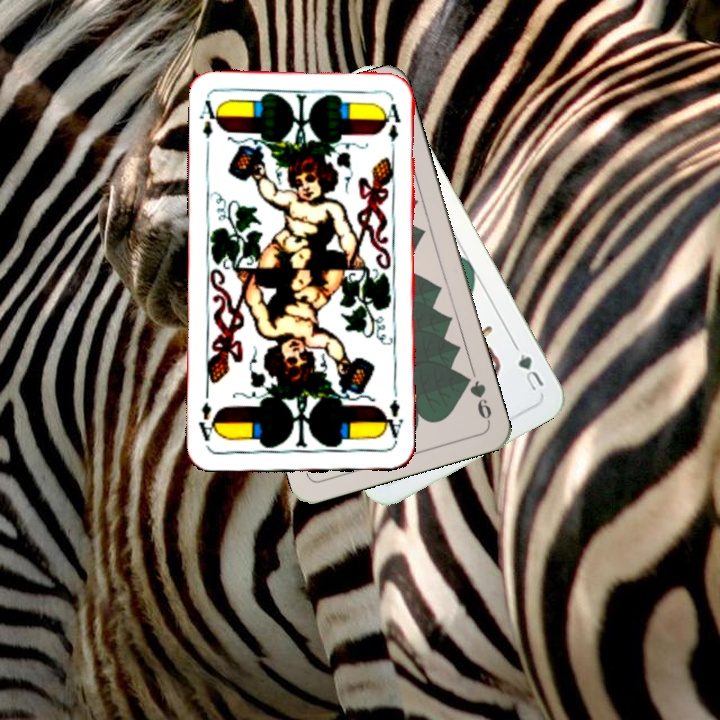EA: (195, 96, 223, 154), (379, 395, 405, 446)
G9: (459, 371, 494, 425)
GU: (514, 349, 547, 394)
